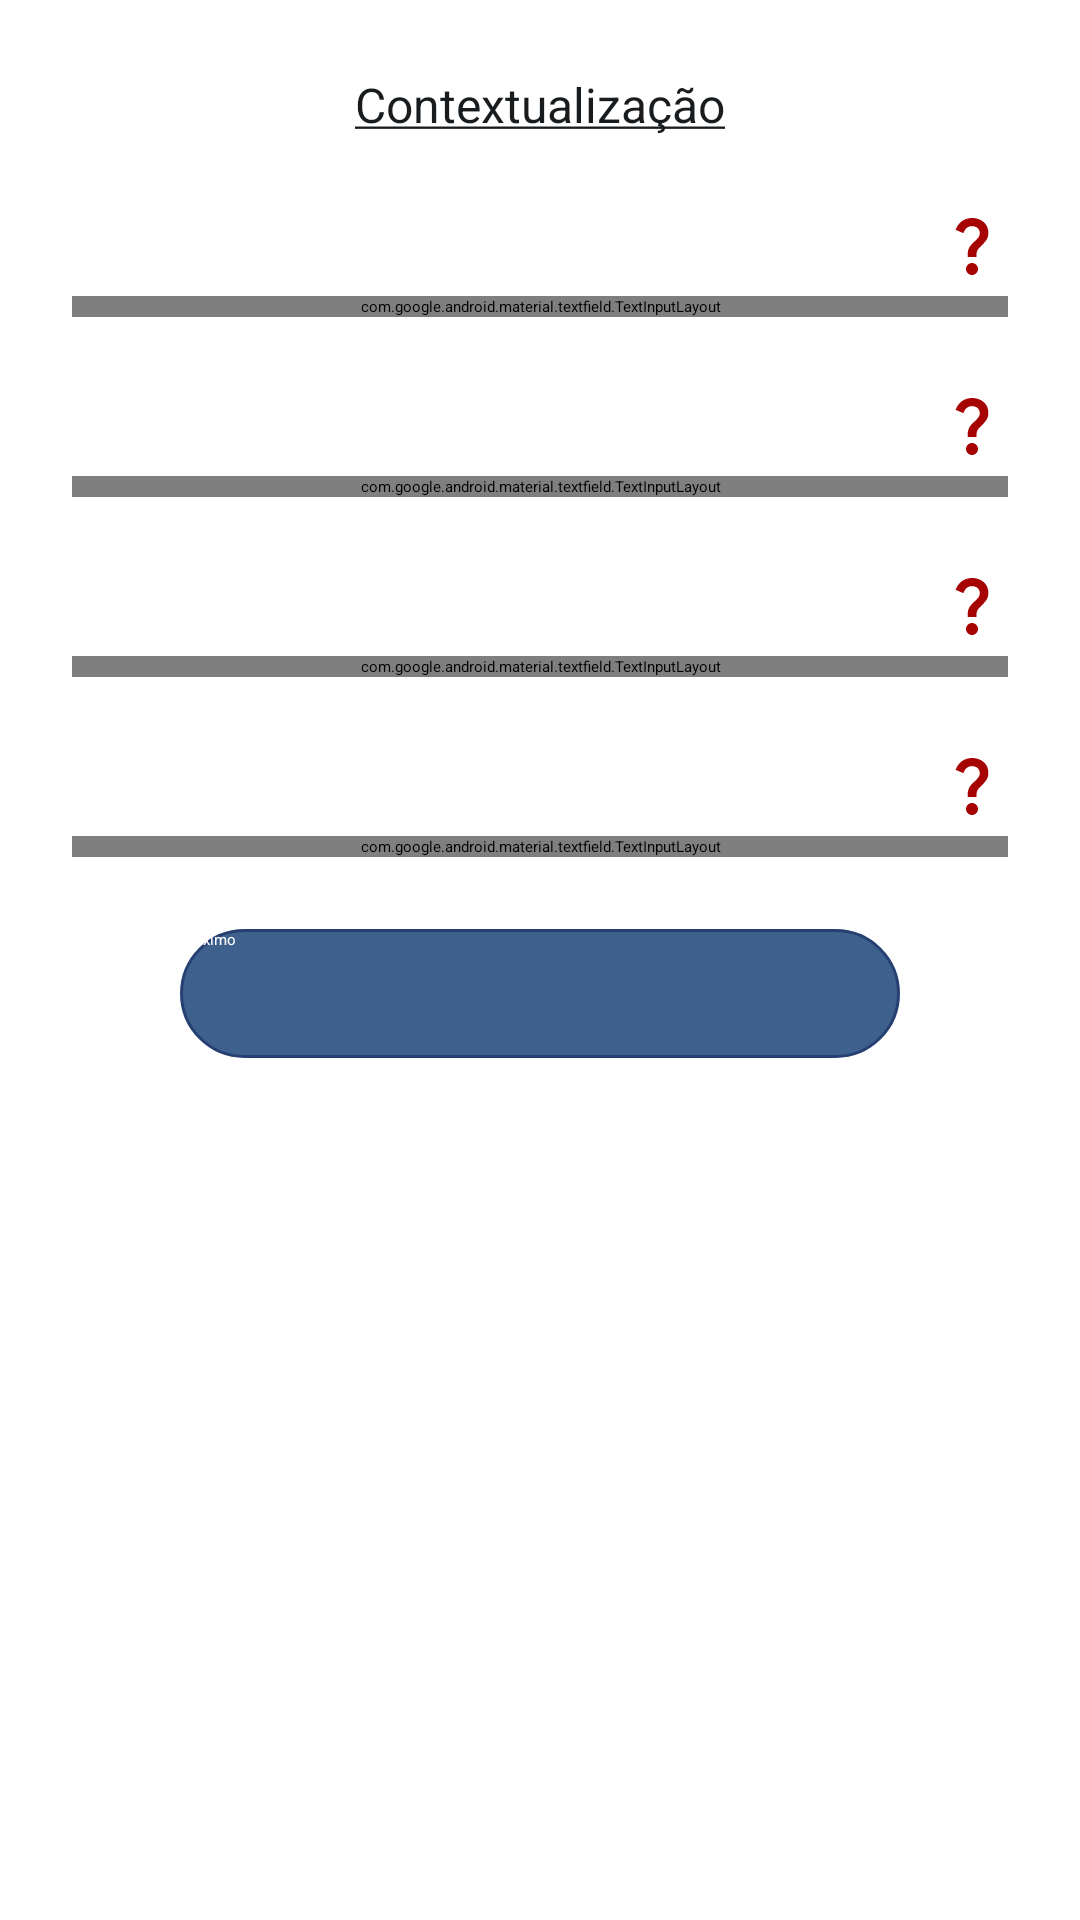

Named icons in this screenshot (1080*1920) and their bounding boxes, (x1, y1, x2, y2):
question mark: (955, 218, 989, 275), (955, 398, 989, 455), (955, 578, 989, 635), (955, 758, 989, 815)
